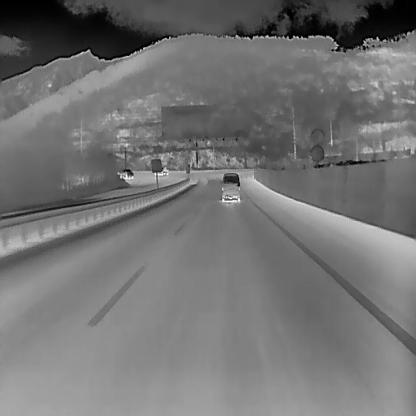car: (221, 172, 240, 202), (118, 167, 134, 178), (153, 165, 169, 175)
